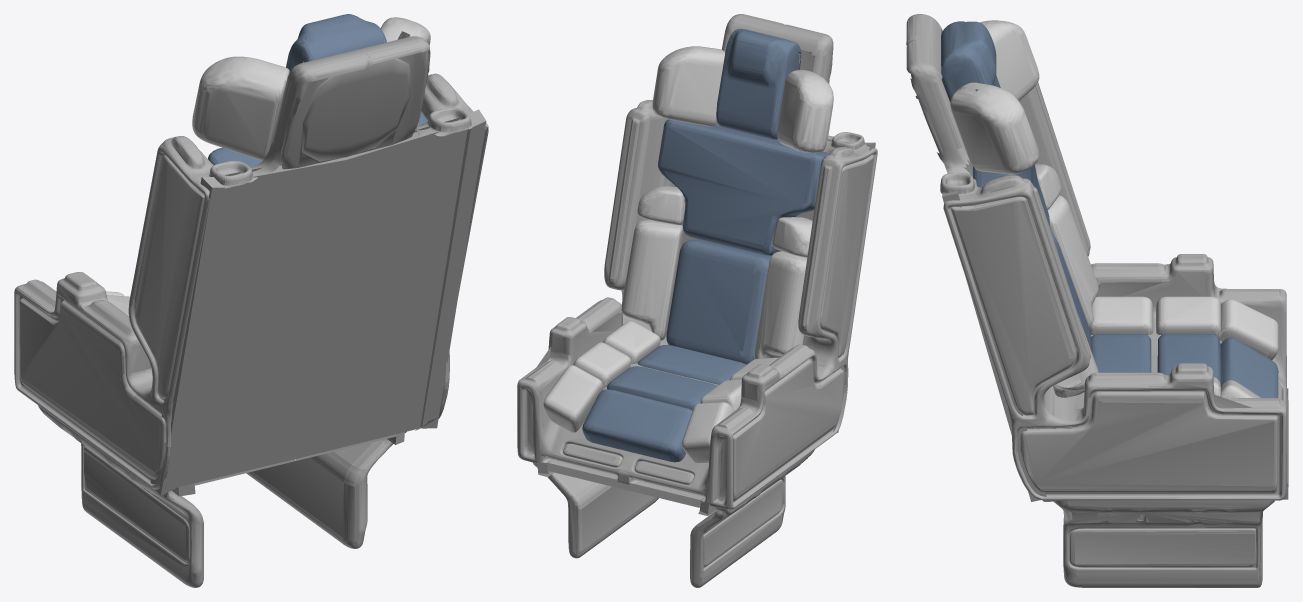
File: sedia1.fbx
The picture shows the model from 3 angles, left to right: view 1: azimuth 30°, elevation 25°; view 2: azimuth 150°, elevation 25°; view 3: azimuth 270°, elevation 25°; orthographic projection. The views are drawn at different scales.
Parts seen in each view (by area): view 1: Plane, Spaceship_chair_Cube.005, Plane.002, Plane.001; view 2: Spaceship_chair_Cube.005, Plane.001; view 3: Spaceship_chair_Cube.005, Plane.
Boxes of the visible parts, bbox=[...] form: Plane: bbox=[150, 109, 486, 495]; Spaceship_chair_Cube.005: bbox=[14, 14, 488, 587]; Plane.002: bbox=[280, 50, 428, 169]; Plane.001: bbox=[172, 432, 404, 496]; Spaceship_chair_Cube.005: bbox=[517, 14, 877, 587]; Plane.001: bbox=[537, 460, 715, 515]; Spaceship_chair_Cube.005: bbox=[906, 14, 1286, 587]; Plane: bbox=[942, 159, 1046, 501].
Bounding box in the file's own units: 76.72 × 152 × 101.
